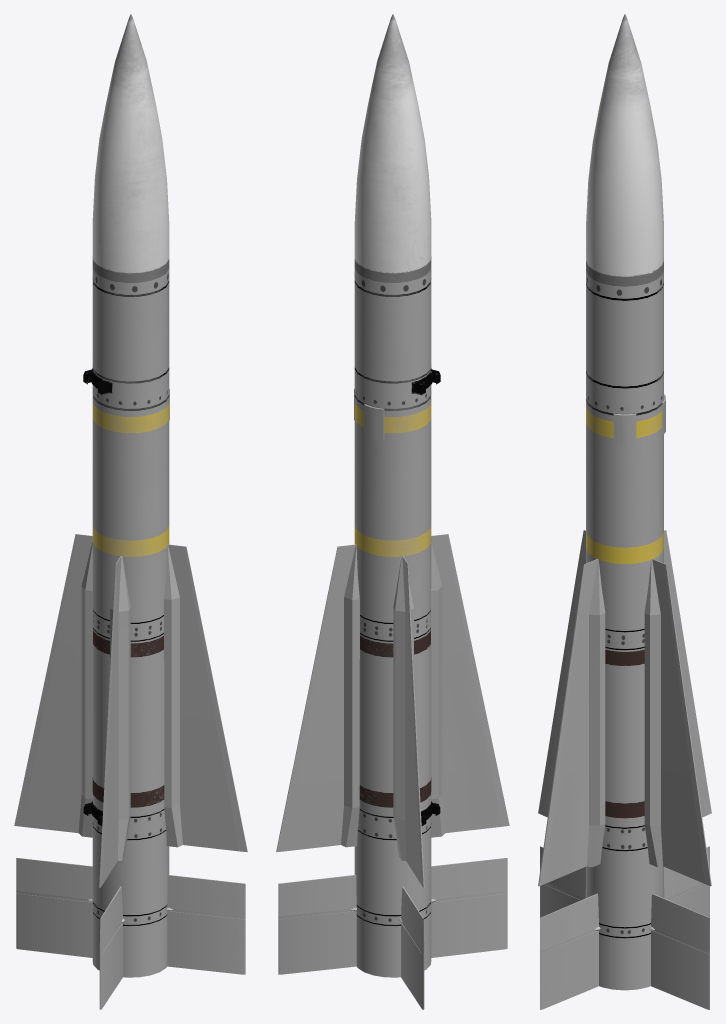
The model's file is Aim-54.obj.
The picture shows the model from 3 angles, left to right: view 1: azimuth 30°, elevation 25°; view 2: azimuth 150°, elevation 25°; view 3: azimuth 270°, elevation 25°; orthographic projection.
Parts seen in each view (by area): view 1: Aim-54_Cube.003; view 2: Aim-54_Cube.003; view 3: Aim-54_Cube.003.
Part boxes in pixels (x1,y1,x2,y2): Aim-54_Cube.003: (14,14,247,1009); Aim-54_Cube.003: (276,14,509,1009); Aim-54_Cube.003: (538,14,711,1009).
Size of the model in its own units: 0.6394 by 3.9 by 0.6394.
1 material, 1 textured.
